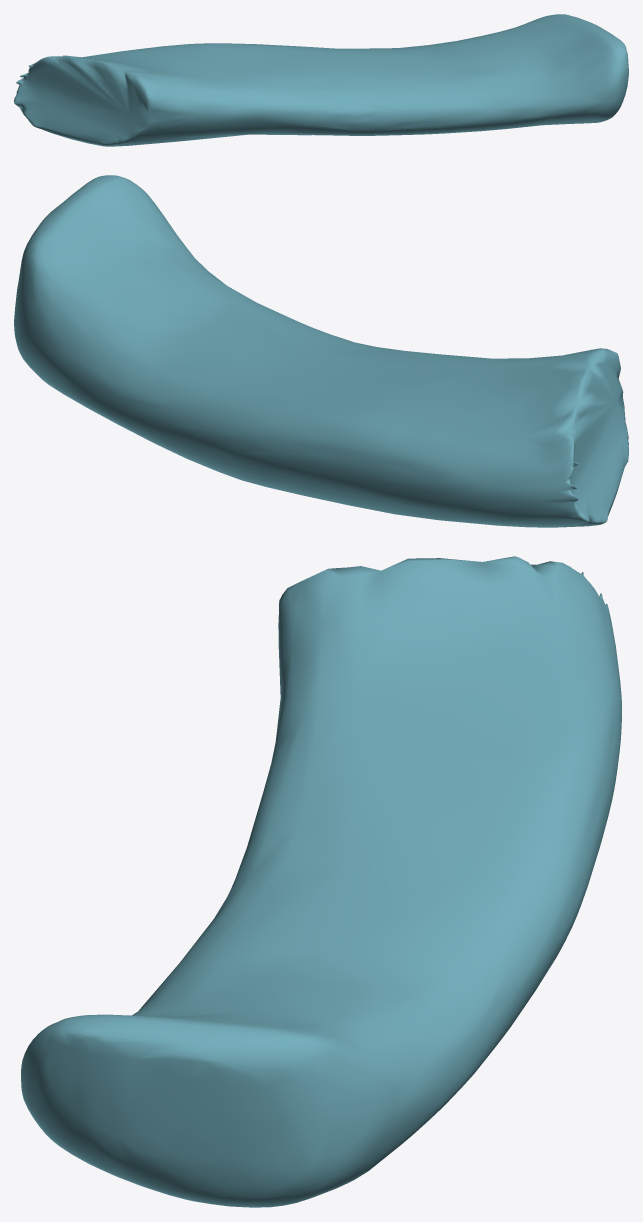
3 renders of one model, top to bottom at view 1: azimuth 30°, elevation 25°; view 2: azimuth 150°, elevation 25°; view 3: azimuth 270°, elevation 25°, orthographic. The views are drawn at different scales.
Visible parts, largest first — view 1: 右侧第四肋软骨; view 2: 右侧第四肋软骨; view 3: 右侧第四肋软骨.
Part boxes in pixels (box(x1,y1,x2,y2)): 右侧第四肋软骨: box(14, 14, 628, 146); 右侧第四肋软骨: box(14, 175, 628, 527); 右侧第四肋软骨: box(21, 556, 621, 1207).
Size of the model in its own units: 0.0802 by 0.0185 by 0.0427.
